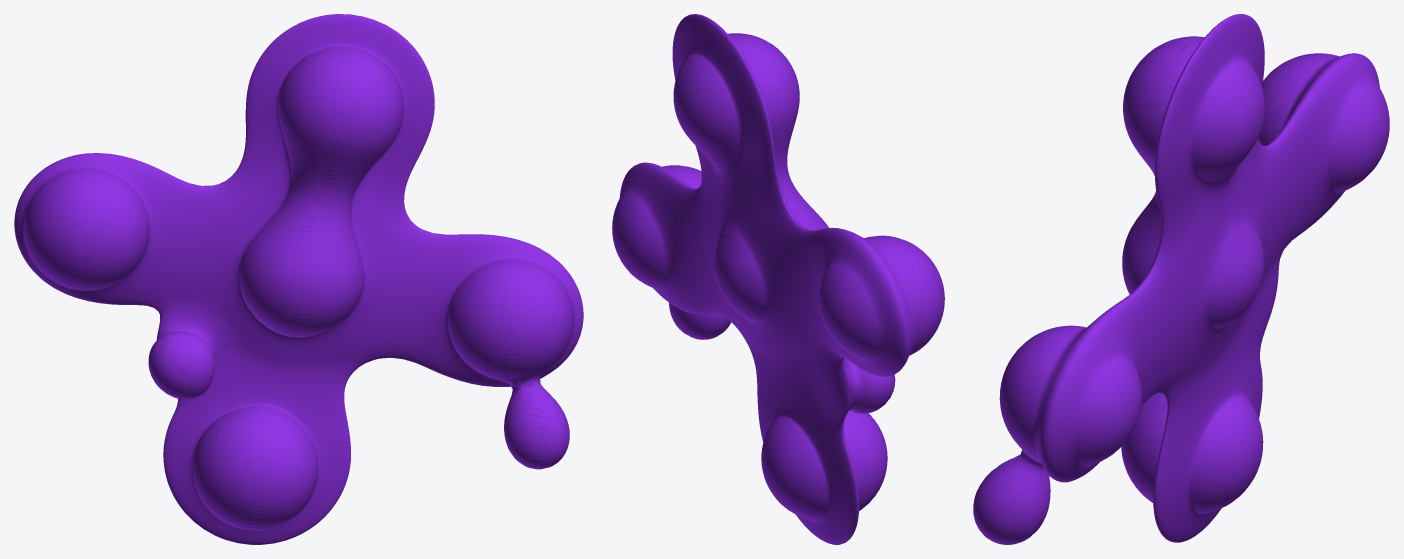
The model's file is Virus05.fbx.
The picture shows the model from 3 angles, left to right: view 1: azimuth 30°, elevation 25°; view 2: azimuth 150°, elevation 25°; view 3: azimuth 270°, elevation 25°; orthographic projection. The views are drawn at different scales.
Parts seen in each view (by area): view 1: Mball.001; view 2: Mball.001; view 3: Mball.001.
Part boxes in pixels (bbox=[...]): Mball.001: bbox=[14, 14, 583, 544]; Mball.001: bbox=[612, 14, 944, 544]; Mball.001: bbox=[973, 14, 1389, 544].
Size of the model in its own units: 4.5 by 4.98 by 3.32.
